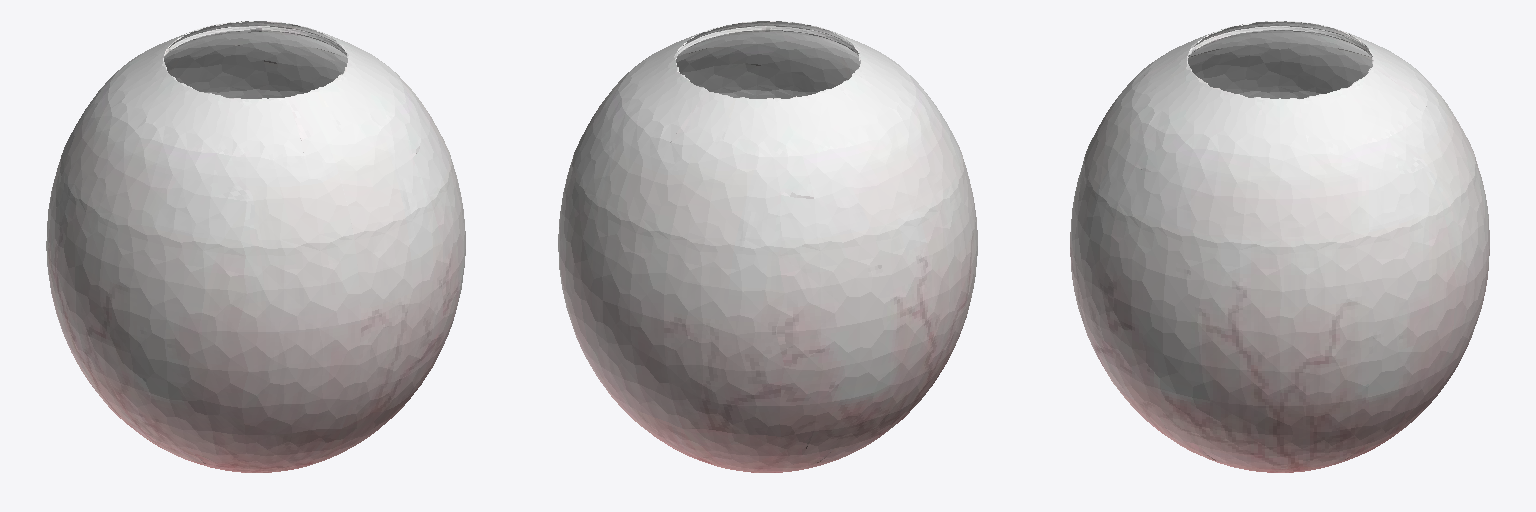
3 renders of one model, left to right at view 1: azimuth 30°, elevation 25°; view 2: azimuth 150°, elevation 25°; view 3: azimuth 270°, elevation 25°, orthographic.
Visible parts, largest first — view 1: BackedSclera.002; view 2: BackedSclera.002; view 3: BackedSclera.002.
Part boxes in pixels (x1,y1,x2,y2): BackedSclera.002: (46, 21, 465, 472); BackedSclera.002: (558, 21, 977, 472); BackedSclera.002: (1070, 21, 1489, 472).
Bounding box in the file's own units: 2.36 × 2.44 × 2.37.
Materials: 1 (1 with a texture image).